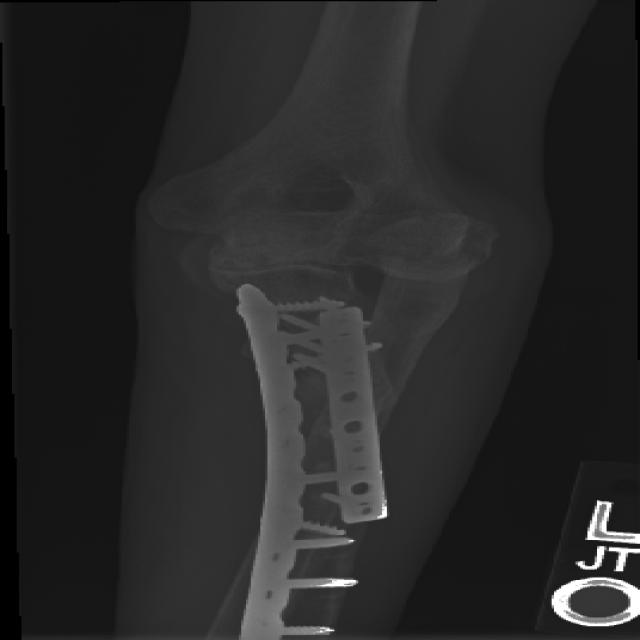elbow positive: (347, 210, 518, 315)
